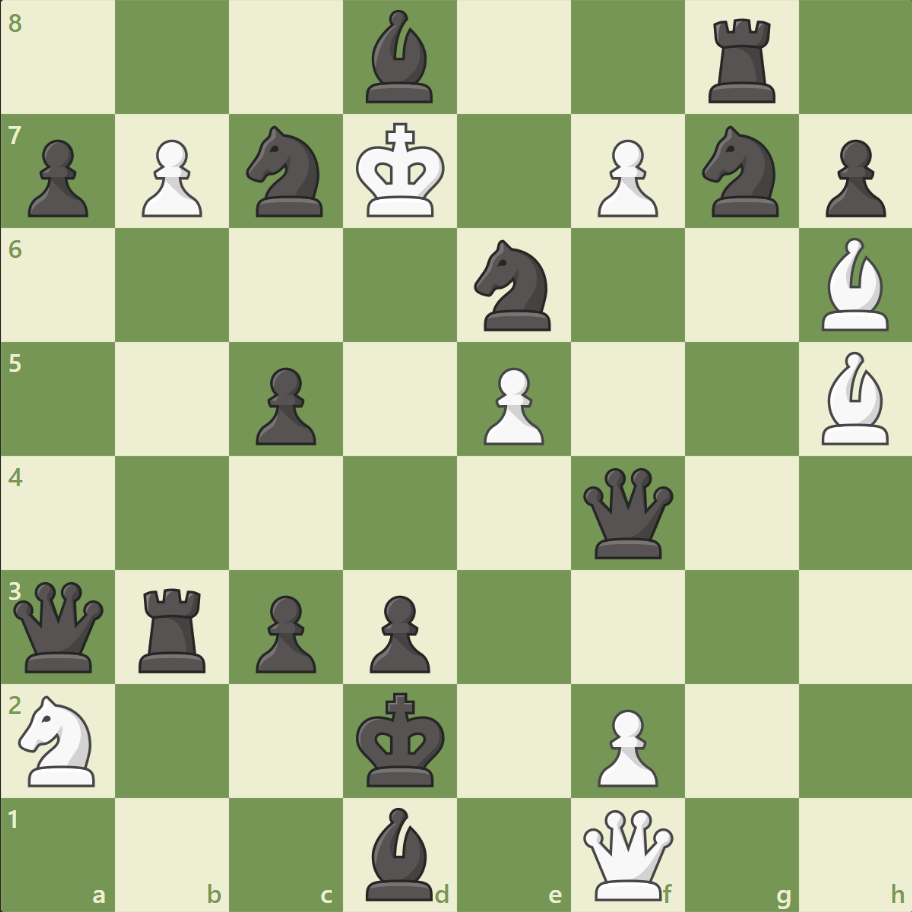B: (812, 233, 896, 336), (812, 347, 896, 449)
K: (351, 117, 451, 225)
N: (11, 688, 108, 791)
P: (133, 132, 208, 223), (474, 359, 549, 450), (588, 132, 662, 223), (588, 700, 662, 791)
Q: (578, 804, 677, 903)
b: (358, 6, 442, 109), (358, 801, 442, 904)
k: (351, 685, 451, 793)
n: (465, 234, 562, 337), (238, 121, 335, 223), (692, 121, 789, 223)
p: (20, 132, 95, 223), (247, 359, 322, 450), (247, 586, 322, 677), (815, 132, 889, 223), (361, 586, 435, 677)
q: (10, 576, 109, 676), (578, 463, 677, 562)
r: (700, 12, 783, 109), (133, 579, 215, 676)
